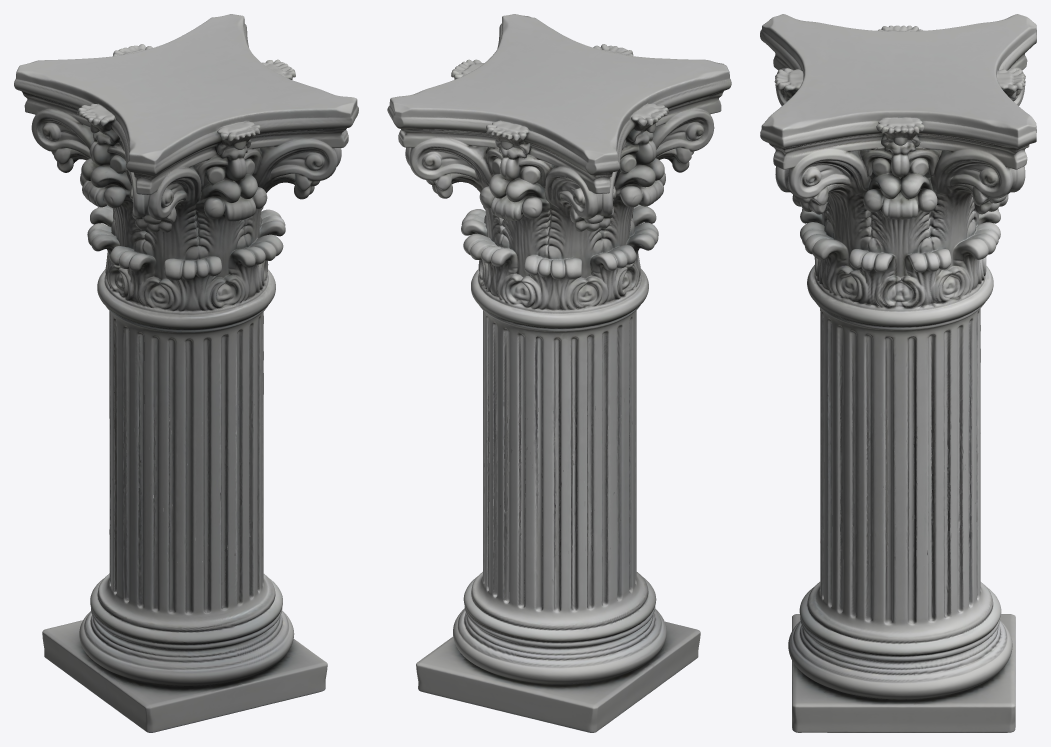
File: coluna-romana.glb
3 renders of one model, left to right at view 1: azimuth 30°, elevation 25°; view 2: azimuth 150°, elevation 25°; view 3: azimuth 270°, elevation 25°, orthographic. The views are drawn at different scales.
Parts seen in each view (by area): view 1: tripo_node_8c8ed5bf-eac9-4b83-a41f-48b352488fad; view 2: tripo_node_8c8ed5bf-eac9-4b83-a41f-48b352488fad; view 3: tripo_node_8c8ed5bf-eac9-4b83-a41f-48b352488fad.
Part boxes in pixels (box(x1,y1,x2,y2)): tripo_node_8c8ed5bf-eac9-4b83-a41f-48b352488fad: box(14, 14, 358, 732); tripo_node_8c8ed5bf-eac9-4b83-a41f-48b352488fad: box(387, 14, 731, 732); tripo_node_8c8ed5bf-eac9-4b83-a41f-48b352488fad: box(760, 14, 1036, 732).
Bounding box in the file's own units: 0.4116 × 1 × 0.4062.
Materials: 1 (1 with a texture image).
